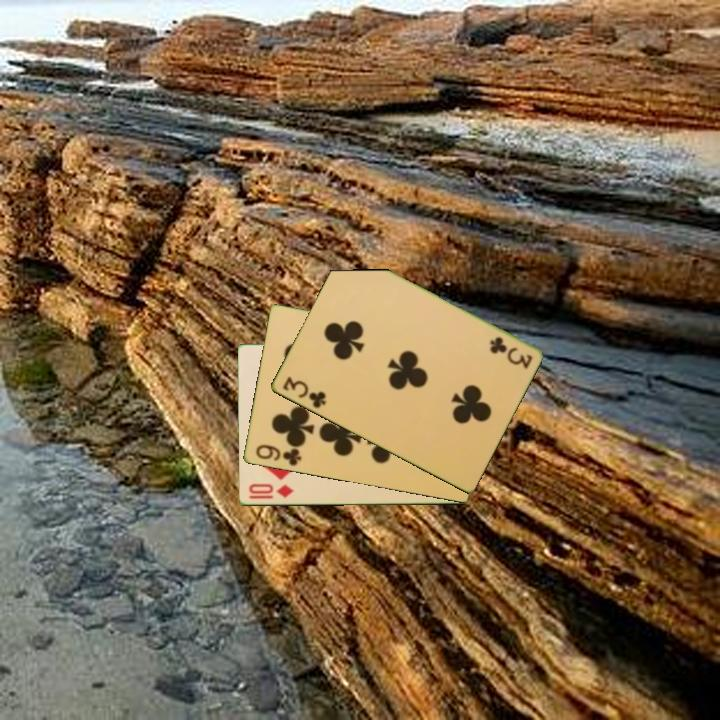10d: (245, 480, 296, 501)
3c: (279, 373, 329, 411), (486, 333, 535, 371)
9c: (252, 441, 304, 469)
